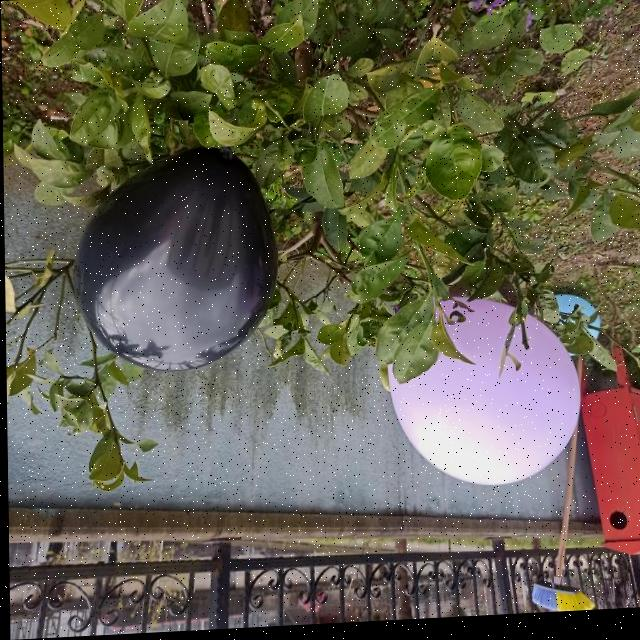balloon: (72, 148, 275, 377), (384, 295, 580, 499)
